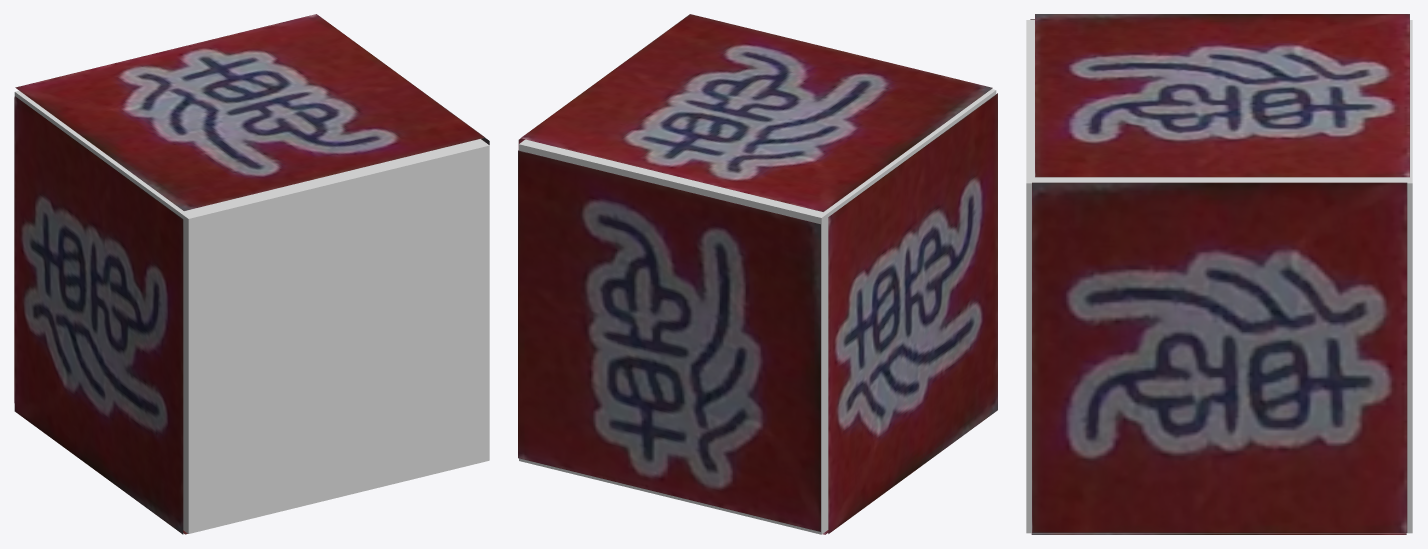
3 views of the same model, side by side, from view 1: azimuth 30°, elevation 25°; view 2: azimuth 150°, elevation 25°; view 3: azimuth 270°, elevation 25° (orthographic). The views are drawn at different scales.
Visible parts, largest first — view 1: Link25, R1.002, R1.003; view 2: R1.005, R1.002, R1.003, Link25; view 3: R1.004, R1.003, Link25, R1.001.
Boxes of the visible parts, x1,y1,x2,y2 form: Link25: [14, 90, 489, 533]; R1.002: [14, 96, 183, 534]; R1.003: [15, 14, 484, 210]; R1.005: [518, 150, 820, 531]; R1.002: [828, 93, 997, 533]; R1.003: [521, 14, 992, 211]; Link25: [519, 89, 996, 534]; R1.004: [1032, 182, 1407, 532]; R1.003: [1035, 14, 1409, 177]; Link25: [1026, 20, 1412, 533]; R1.001: [1031, 533, 1406, 534].
Size of the model in its own units: 0.3569 by 0.3509 by 0.3578.
Materials: 1 (1 with a texture image).
